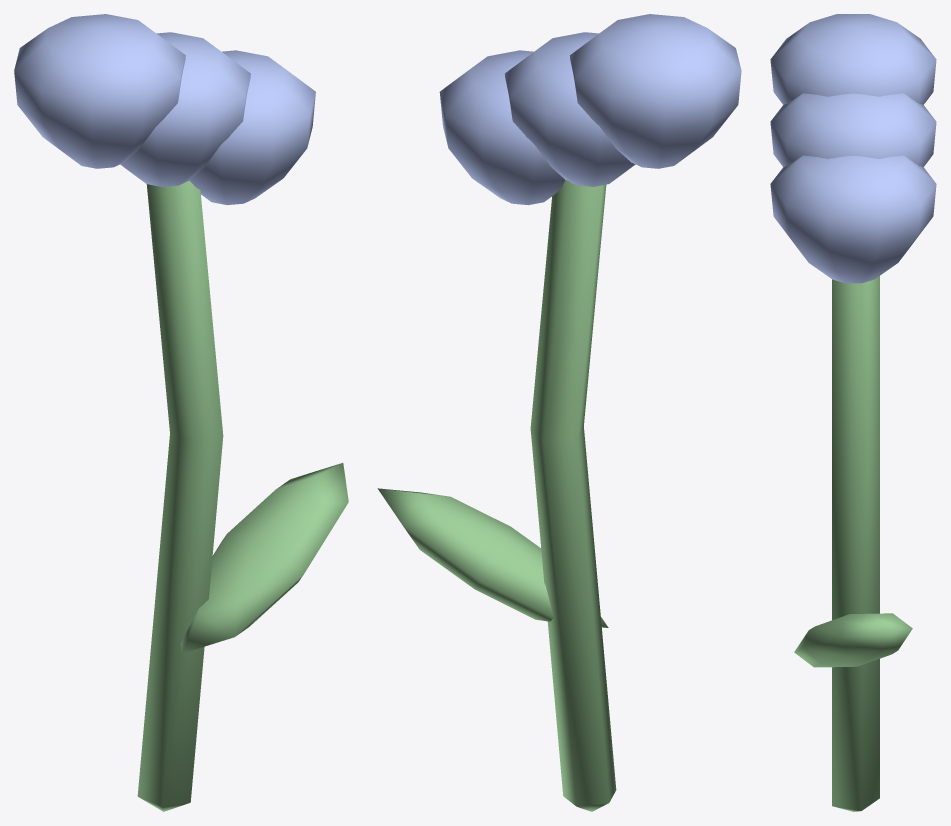
Rendered from flower_campanula.glb.
The picture shows the model from 3 angles, left to right: view 1: azimuth 30°, elevation 25°; view 2: azimuth 150°, elevation 25°; view 3: azimuth 270°, elevation 25°; orthographic projection. The views are drawn at different scales.
Parts seen in each view (by area): view 1: flower_campanula; view 2: flower_campanula; view 3: flower_campanula.
Boxes of the visible parts, left/top/right/bottom form: flower_campanula: left=14, top=14, right=348, bottom=811; flower_campanula: left=377, top=14, right=741, bottom=811; flower_campanula: left=770, top=14, right=936, bottom=811.
Bounding box in the file's own units: 0.2048 × 0.4695 × 0.0935.
